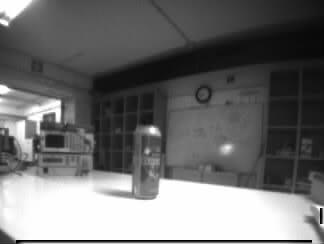Tin can: (133, 124, 158, 197)
